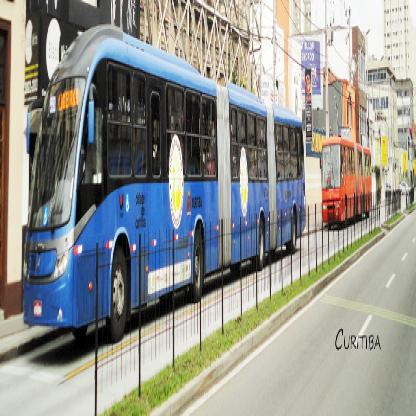Bus: (20, 15, 308, 346), (317, 127, 373, 226)
